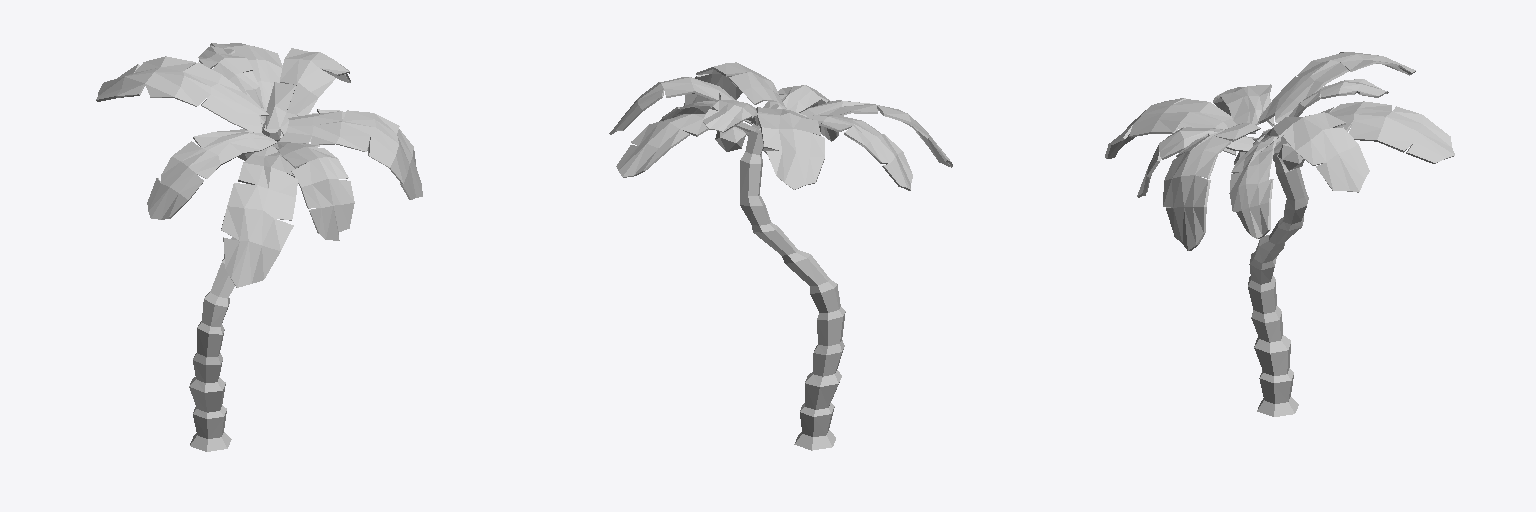
File: palm_tree_2.obj
3 views of the same model, side by side, from view 1: azimuth 30°, elevation 25°; view 2: azimuth 150°, elevation 25°; view 3: azimuth 270°, elevation 25° (orthographic).
Parts seen in each view (by area): view 1: palm_tree_2_leaves, palm_tree_2_trunk; view 2: palm_tree_2_leaves, palm_tree_2_trunk, palm_tree_2_coconuts; view 3: palm_tree_2_leaves, palm_tree_2_trunk.
Boxes of the visible parts, box(x1,y1,x2,y2) form: palm_tree_2_leaves: box(96, 43, 422, 287); palm_tree_2_trunk: box(189, 125, 280, 451); palm_tree_2_leaves: box(609, 62, 952, 190); palm_tree_2_trunk: box(740, 123, 845, 450); palm_tree_2_coconuts: box(715, 127, 774, 153); palm_tree_2_leaves: box(1105, 52, 1454, 250); palm_tree_2_trunk: box(1248, 129, 1308, 416).
Bounding box in the file's own units: 4.01 × 5.39 × 4.91.